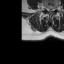CCS_stenosis: (49, 7, 51, 14)
LFS_normal: (53, 6, 55, 12)
LLS_normal: (51, 7, 53, 13)
RFS_normal: (46, 5, 48, 12)
RLS_normal: (47, 6, 49, 13)
